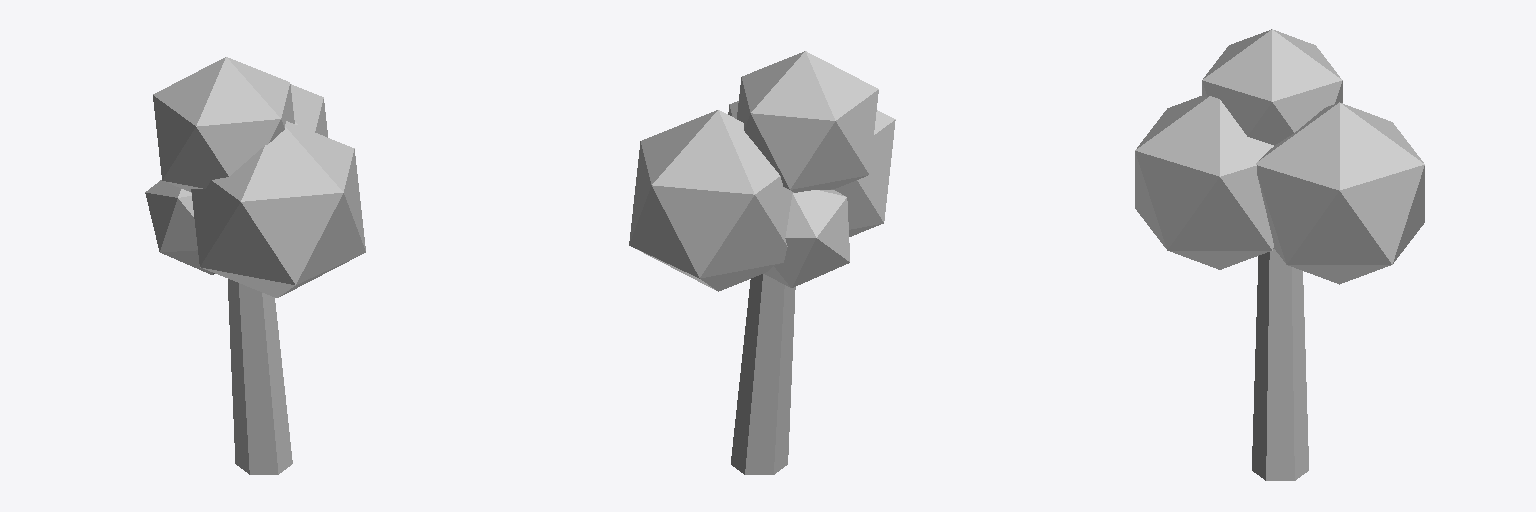
Rendered from tree1.obj.
3 renders of one model, left to right at view 1: azimuth 30°, elevation 25°; view 2: azimuth 150°, elevation 25°; view 3: azimuth 270°, elevation 25°, orthographic.
Parts seen in each view (by area): view 1: Cylinder; view 2: Cylinder; view 3: Cylinder.
Boxes of the visible parts, x1=… form: Cylinder: x1=145, y1=57, x2=365, y2=474; Cylinder: x1=629, y1=51, x2=895, y2=474; Cylinder: x1=1135, y1=29, x2=1424, y2=480.
Bounding box in the file's own units: 17.31 × 35.63 × 22.27.